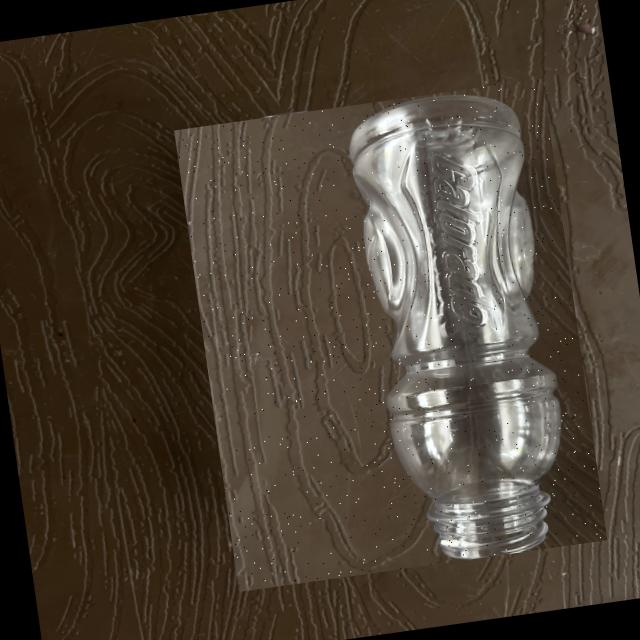PET_ClearBottle: (175, 79, 608, 592)
